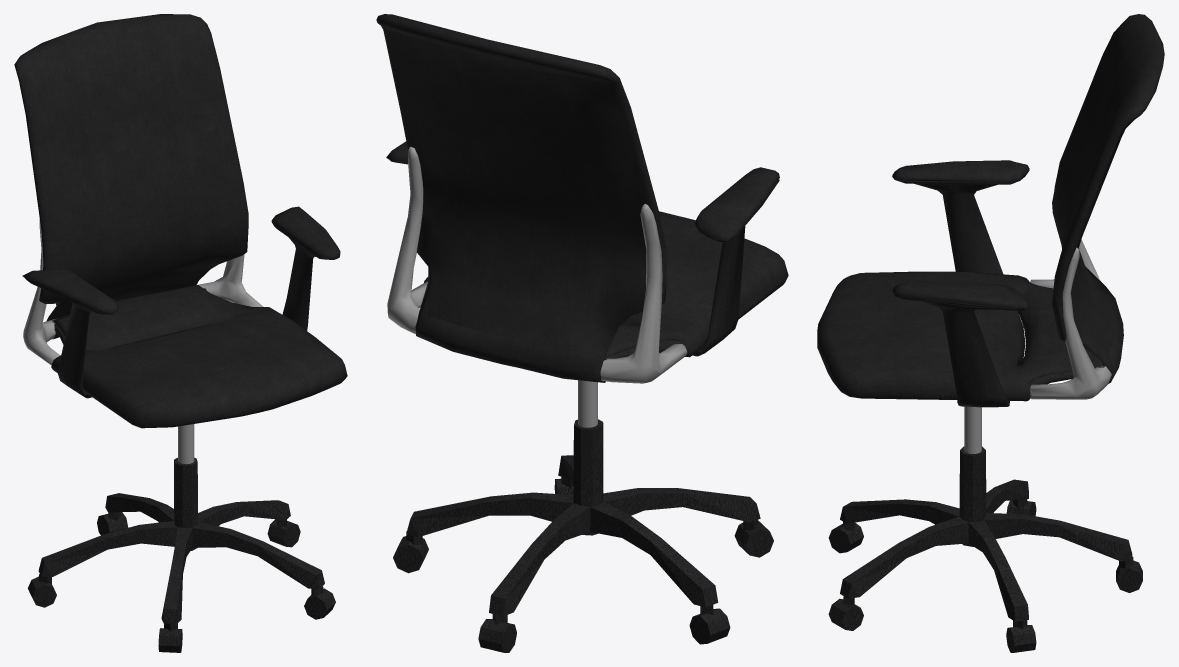
The model's file is Chair 1.fbx.
3 views of the same model, side by side, from view 1: azimuth 30°, elevation 25°; view 2: azimuth 150°, elevation 25°; view 3: azimuth 270°, elevation 25° (orthographic). The views are drawn at different scales.
Visible parts, largest first — view 1: chair 1; view 2: chair 1; view 3: chair 1.
Boxes of the visible parts, left/top/right/bottom form: chair 1: left=14, top=14, right=347, bottom=652; chair 1: left=376, top=14, right=788, bottom=652; chair 1: left=817, top=14, right=1164, bottom=652.
Size of the model in its own units: 65.94 by 114 by 66.9.
2 materials, 1 textured.
